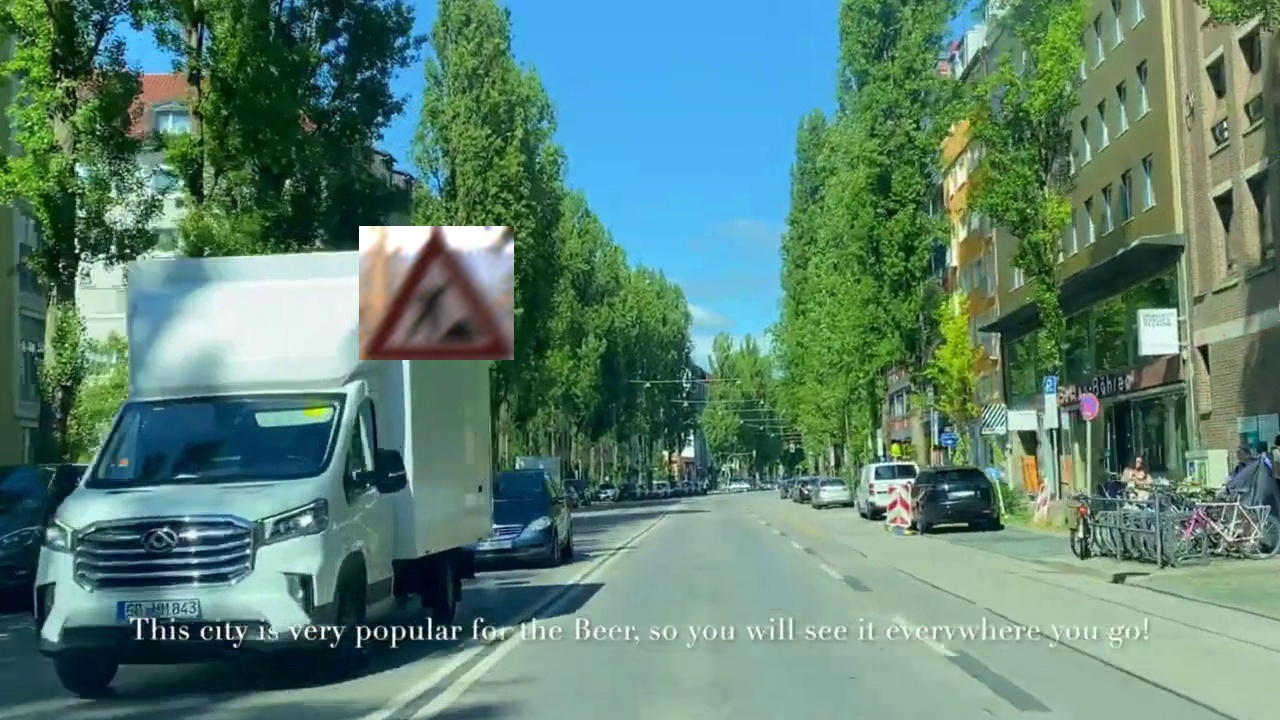Road work: (359, 226, 514, 360)
